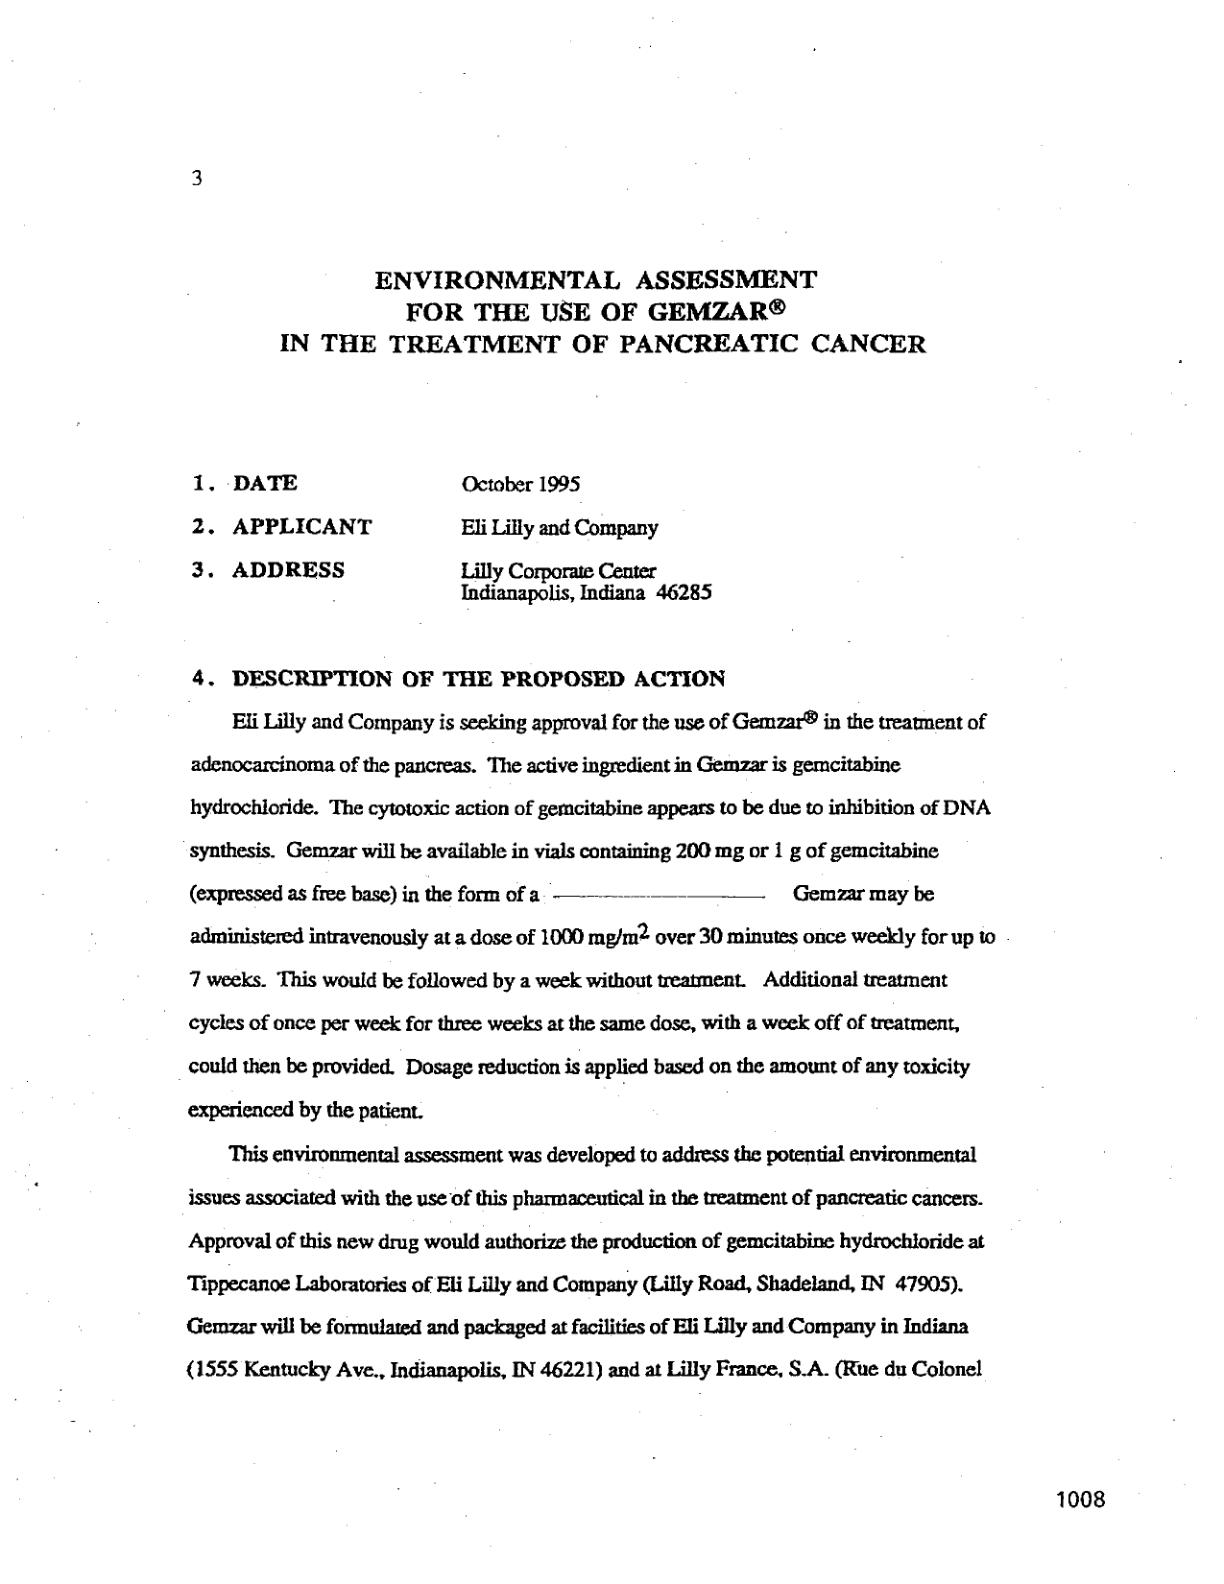nolines: (193, 467, 714, 604)
